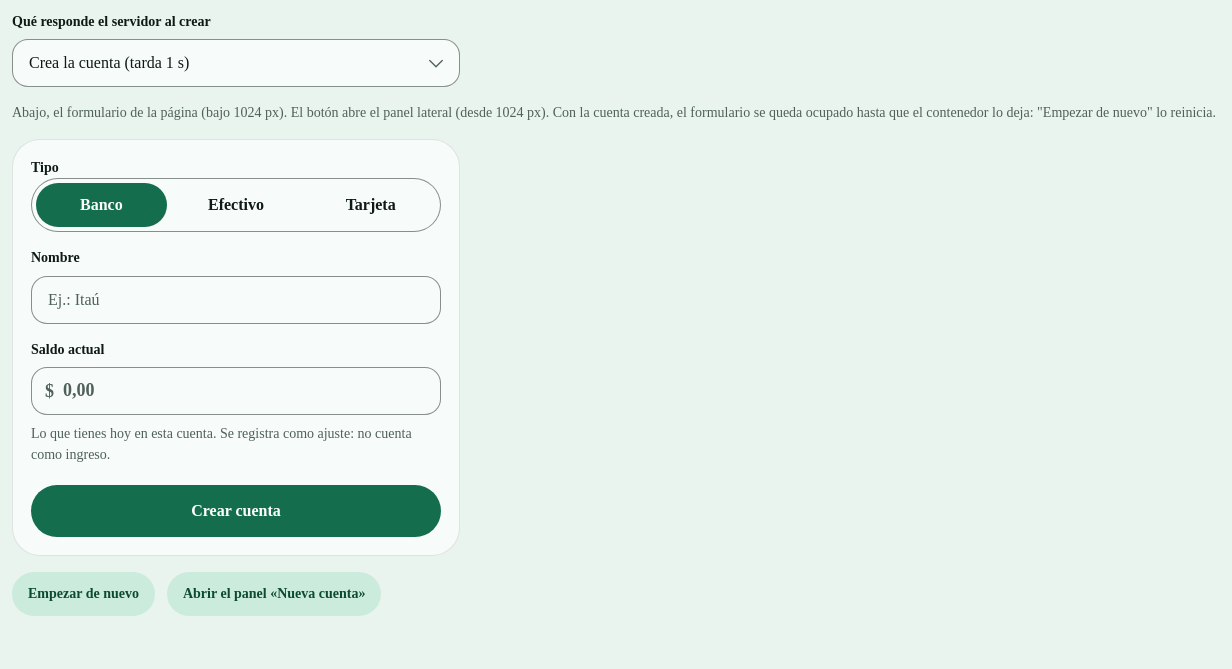
Test: AccountFormDemo › creates the account and hands it to the container, then the form stays busy
The image size is (1232, 669).
Type "Itaú" into the field labelled "Nombre" at (236, 300), box [31,276,441,324]
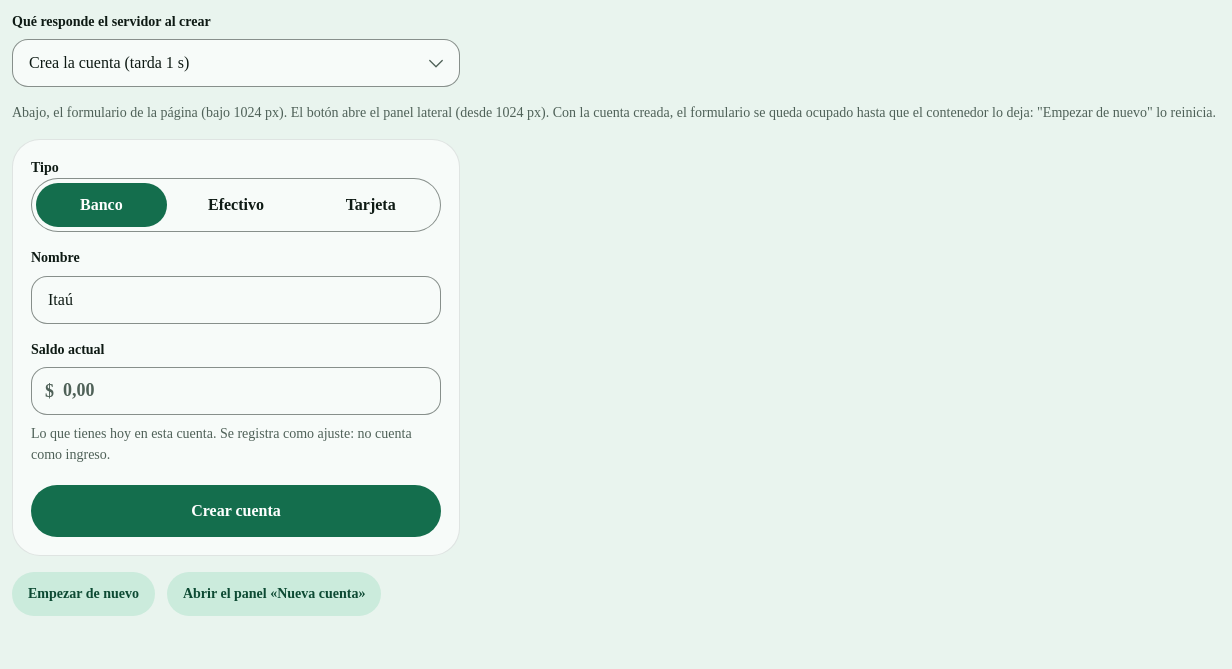
Click the button "Crear cuenta" at (236, 511), box [31,485,441,537]
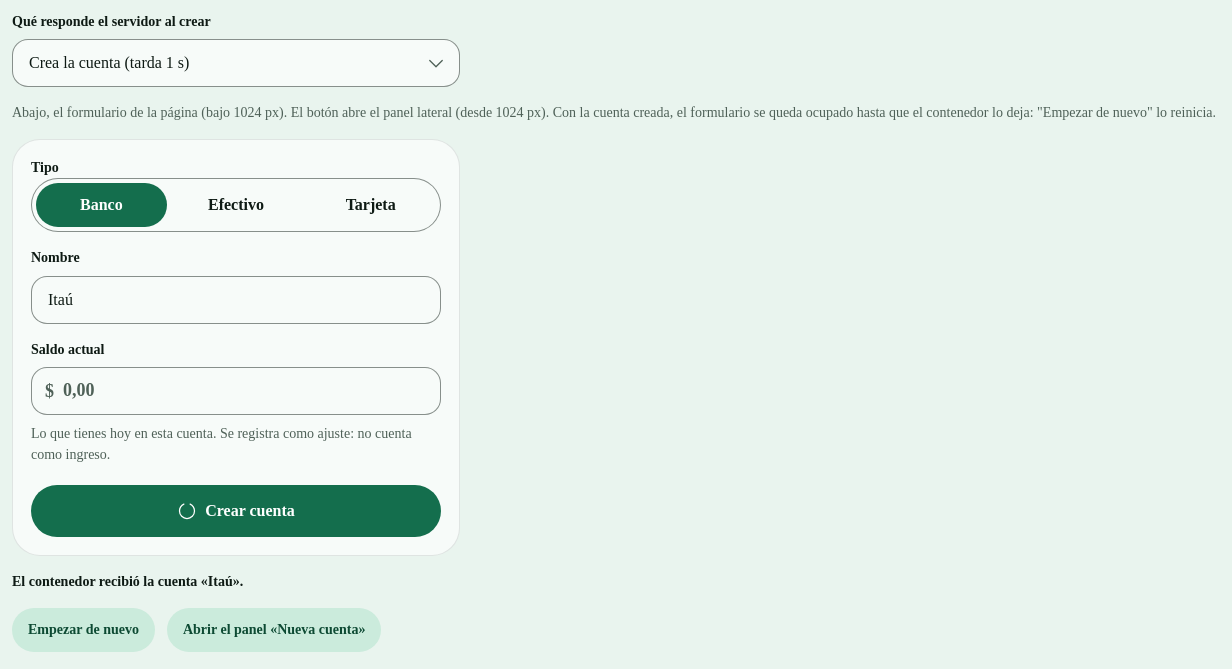
Check: the text "El contenedor recibió la cuenta «Itaú»." is shown, box [12,574,243,589]
Click the button "Empezar de nuevo" at (84, 630), box [12,608,155,652]
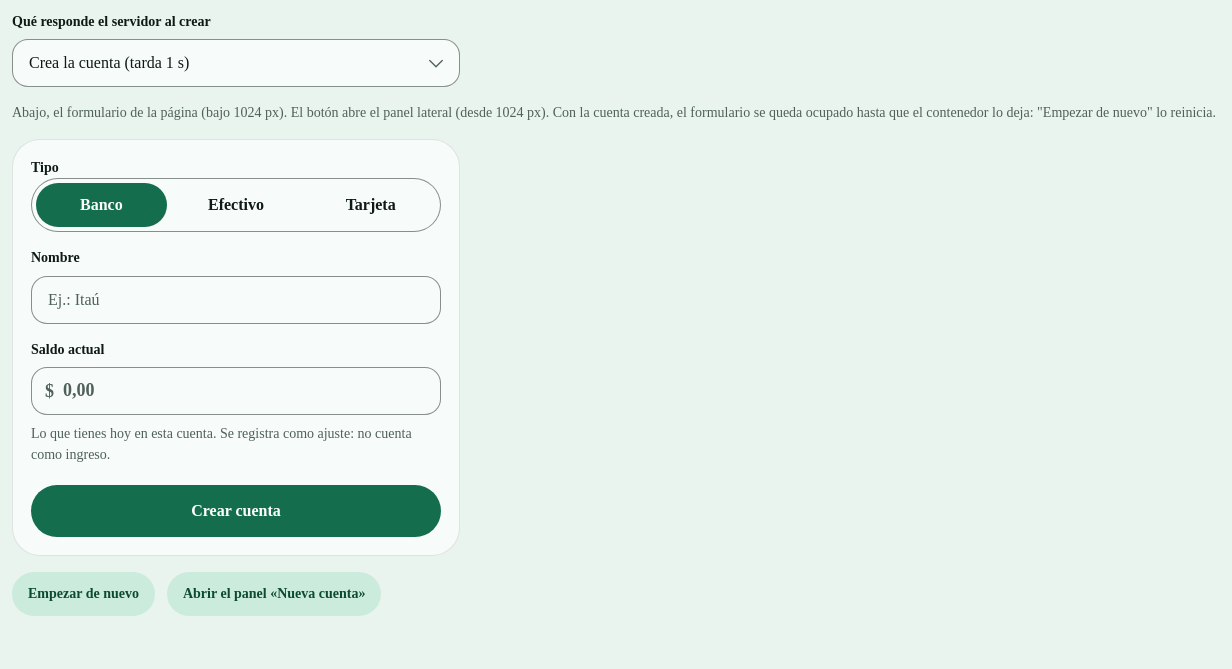
Check: the field labelled "Nombre" is empty, box [31,276,441,324]
Check: the text "El contenedor recibió" is gone
